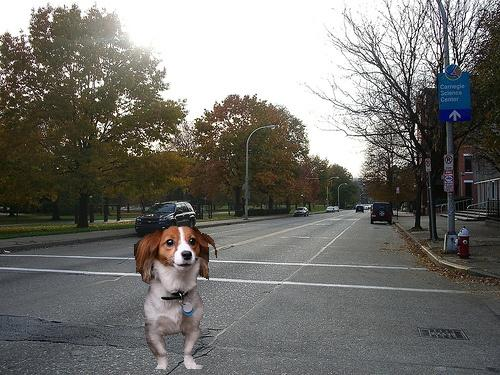tampered: (135, 227, 217, 369)
